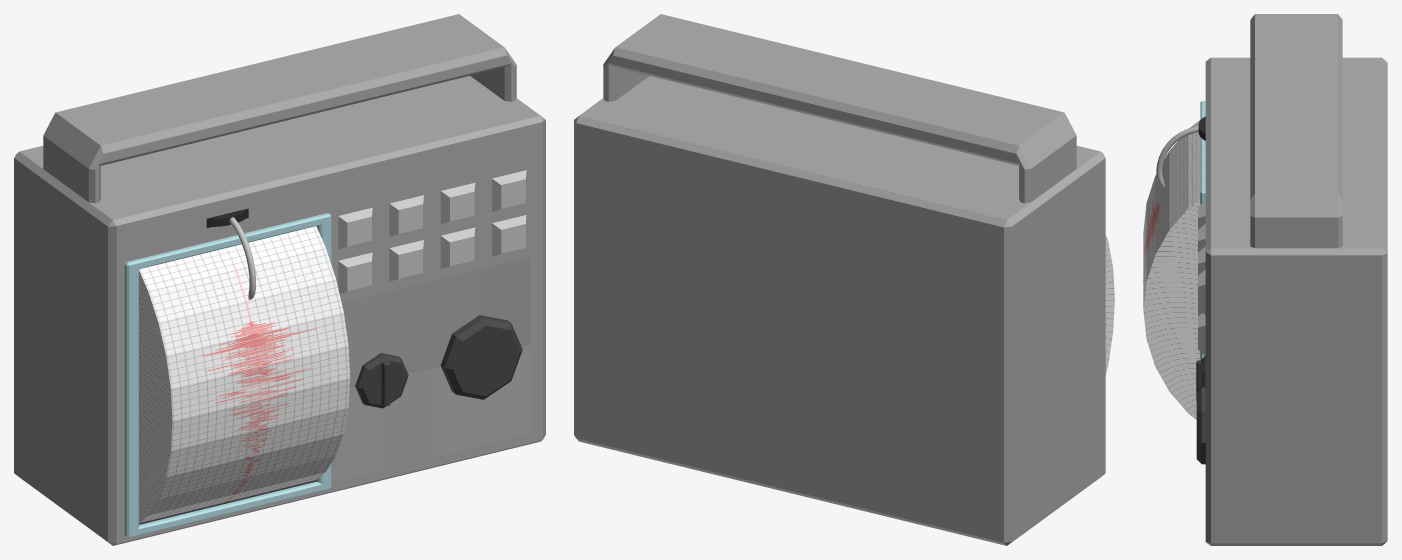
Rendered from Seismometer.fbx.
3 renders of one model, left to right at view 1: azimuth 30°, elevation 25°; view 2: azimuth 150°, elevation 25°; view 3: azimuth 270°, elevation 25°, orthographic. The views are drawn at different scales.
Visible parts, largest first — view 1: Body, Display; view 2: Body, Display; view 3: Body, Display, Needle.
Boxes of the visible parts, box(x1,y1,x2,y2) form: Body: box(14, 14, 545, 545); Display: box(139, 226, 350, 523); Body: box(574, 14, 1105, 545); Display: box(1105, 235, 1114, 375); Body: box(1196, 14, 1387, 545); Display: box(1143, 120, 1200, 419); Needle: box(1156, 125, 1198, 188).
Size of the model in its own units: 108 by 89.1 by 56.83.
